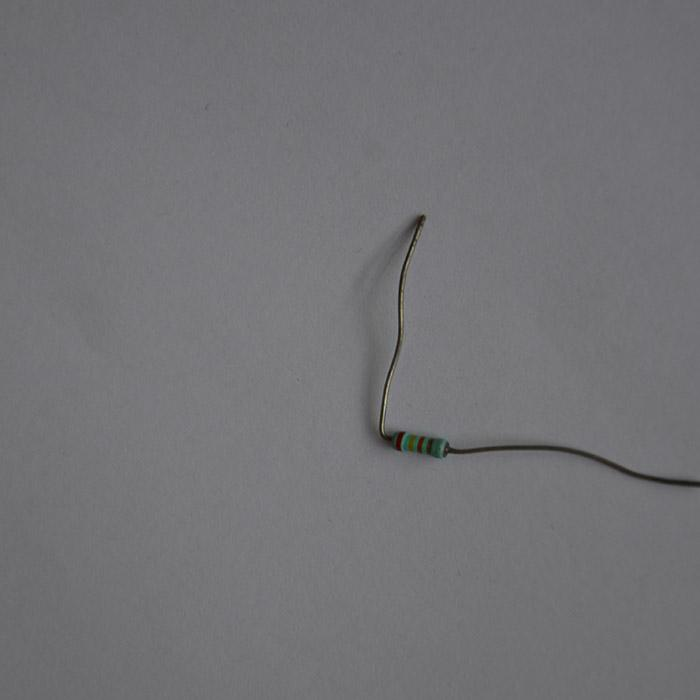resistor: (392, 429, 448, 457)
